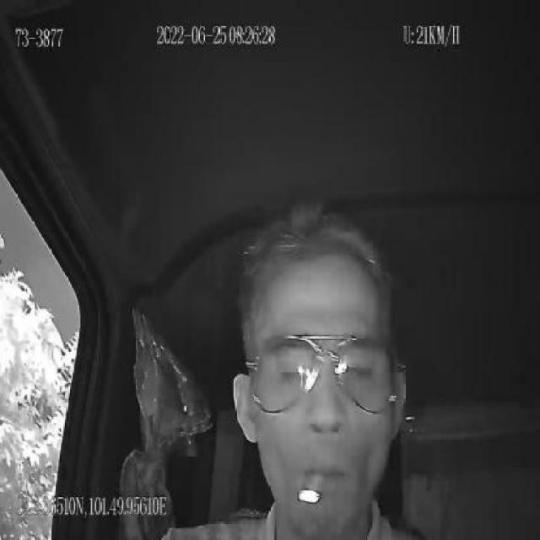smoking: (298, 460, 326, 510)
